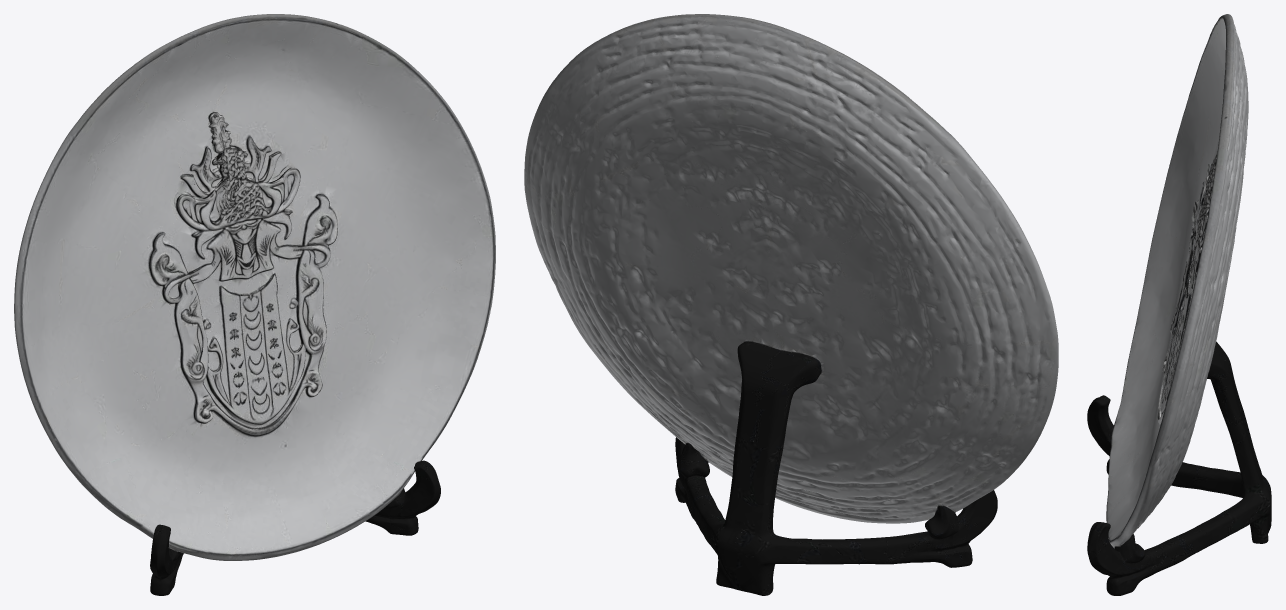
3 renders of one model, left to right at view 1: azimuth 30°, elevation 25°; view 2: azimuth 150°, elevation 25°; view 3: azimuth 270°, elevation 25°, orthographic. The views are drawn at different scales.
Visible parts, largest first — view 1: 0; view 2: 0; view 3: 0.
Part boxes in pixels (<box>): 0: <box>14,14,495,595</box>; 0: <box>524,14,1058,595</box>; 0: <box>1087,14,1271,595</box>.
Bounding box in the file's own units: 1.9 × 1.9 × 0.6433.
1 material, 1 textured.
